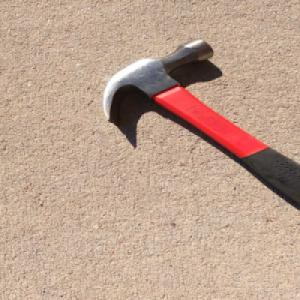Hammer: (99, 35, 300, 210)
